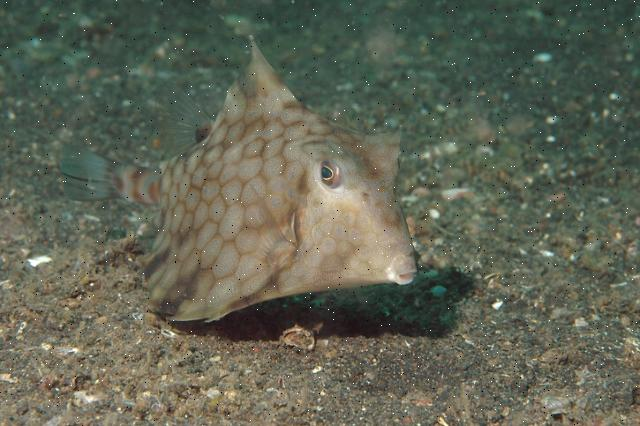Mulut: (367, 234, 431, 313)
Sirip Ekor: (42, 123, 144, 231)
